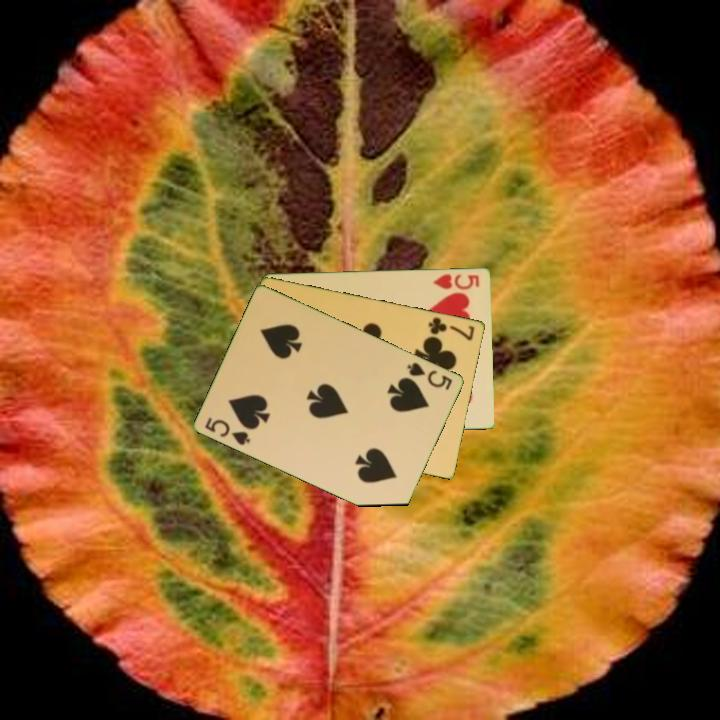5h: (429, 270, 482, 292)
5s: (404, 358, 456, 393), (201, 414, 254, 448)
7c: (425, 313, 478, 343)
